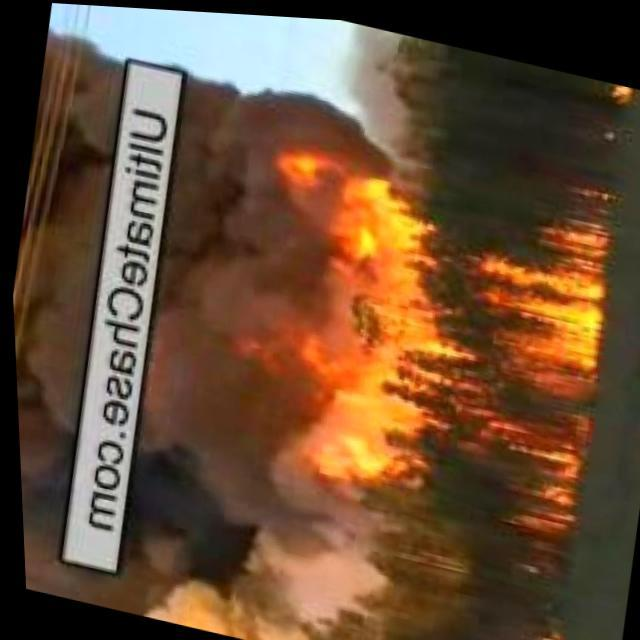fire: (220, 140, 622, 542), (600, 72, 632, 101), (518, 620, 562, 640)
